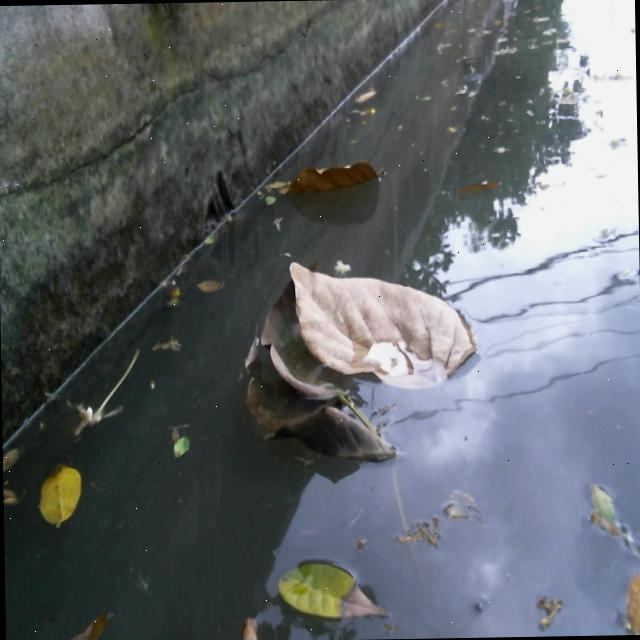Big-leaf: (237, 285, 394, 476), (284, 244, 482, 386), (281, 138, 387, 198)
Small-leaf: (278, 545, 379, 623), (584, 458, 640, 558), (39, 447, 97, 530), (45, 607, 109, 640), (2, 440, 19, 518), (165, 417, 192, 460), (138, 331, 178, 360), (623, 569, 640, 635), (451, 181, 503, 202), (353, 74, 385, 104), (160, 276, 189, 308), (237, 609, 262, 640), (198, 267, 226, 292), (487, 139, 507, 158), (262, 196, 276, 214), (349, 108, 370, 119), (203, 227, 216, 244)
